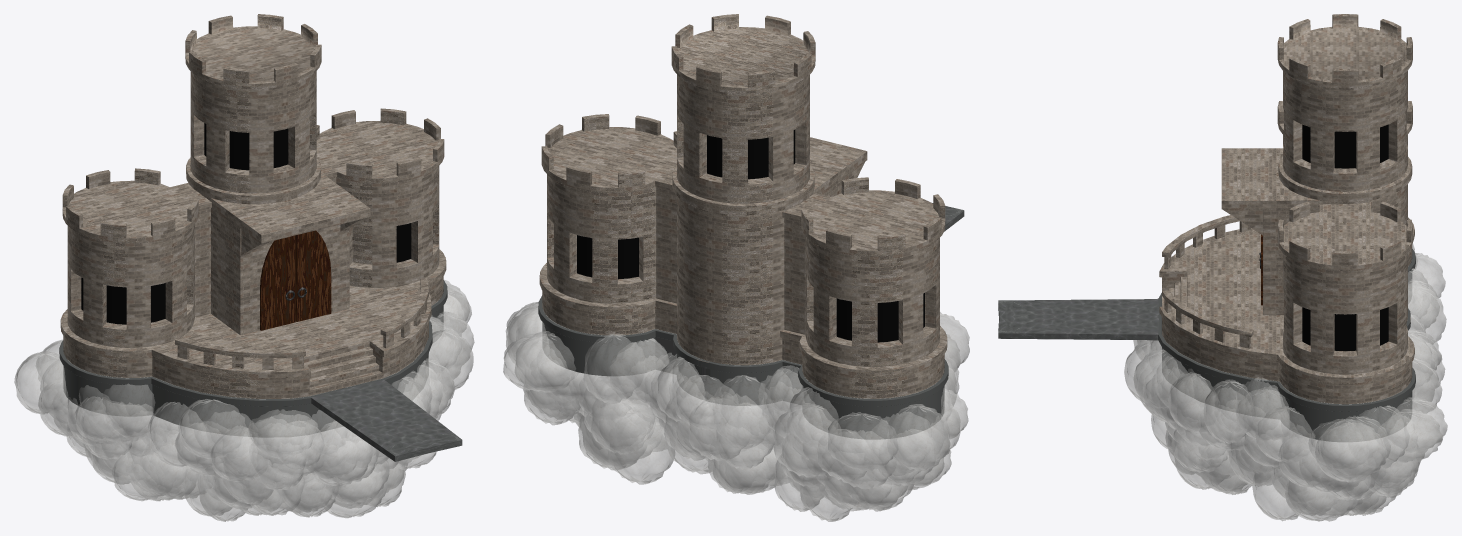
File: triple_castle.glb
The picture shows the model from 3 angles, left to right: view 1: azimuth 30°, elevation 25°; view 2: azimuth 150°, elevation 25°; view 3: azimuth 270°, elevation 25°; orthographic projection. The views are drawn at different scales.
Parts seen in each view (by area): view 1: triple_castle.001; view 2: triple_castle.001; view 3: triple_castle.001.
Part boxes in pixels (left/top/right/bottom): triple_castle.001: left=14, top=14, right=474, bottom=521; triple_castle.001: left=503, top=14, right=969, bottom=521; triple_castle.001: left=998, top=14, right=1447, bottom=521.
Size of the model in its own units: 7.87 by 7.43 by 7.19.
Materials: 6 (5 with a texture image).
